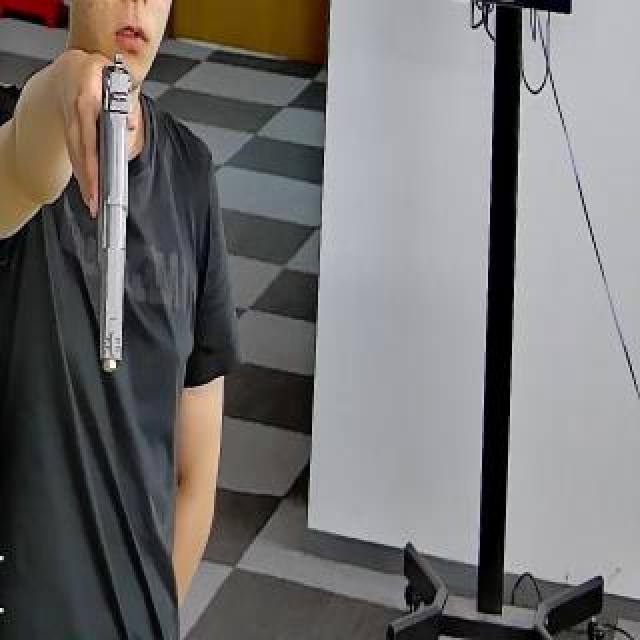Guns: (66, 37, 156, 373)
